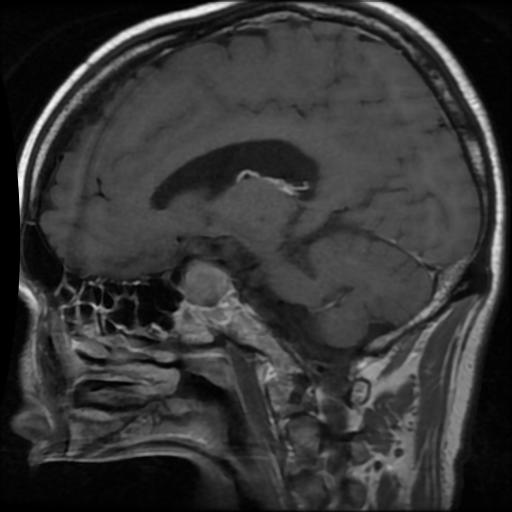Pituirity_tumour: (181, 259, 223, 300)
